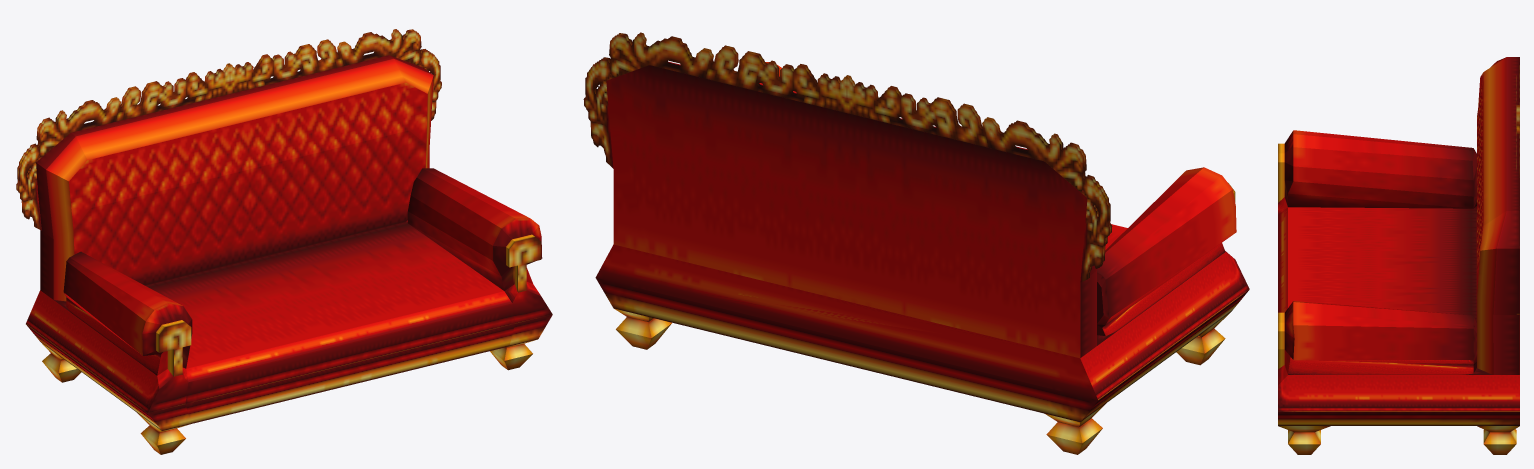
Rendered from Inside_Poly_Chair_04.obj.
3 renders of one model, left to right at view 1: azimuth 30°, elevation 25°; view 2: azimuth 150°, elevation 25°; view 3: azimuth 270°, elevation 25°, orthographic. The views are drawn at different scales.
Parts seen in each view (by area): view 1: Cube, Cube.001; view 2: Cube, Cube.001; view 3: Cube, Cube.001.
Part boxes in pixels (x1,y1,x2,y2): Cube: (26,55,552,454); Cube.001: (16,29,441,230); Cube: (595,61,1249,454); Cube.001: (583,32,1112,282); Cube: (1278,57,1519,454); Cube.001: (1516,65,1519,314).
Bounding box in the file's own units: 2.22 × 1.35 × 1.09.
Materials: 1 (1 with a texture image).
